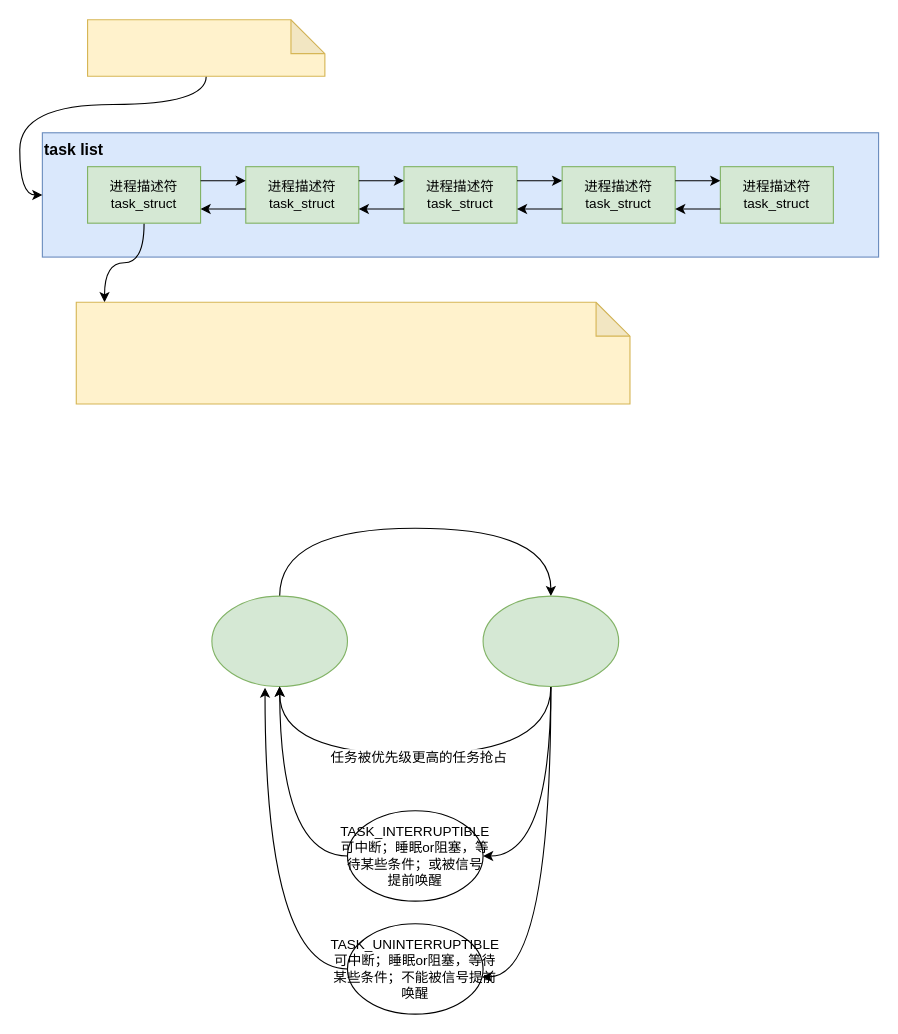
The diagram is 898 pixels wide and 1034 high, and some of its shapes have lost their labels. Here are the shapes that lost their labels. From the top down, the centre of each, then its label:
At pixel 205 47: "进程列表task list，双向链表； 链表中每一项为task_struct".
At pixel 352 352: "打开的文件； 进程地址空间 挂起的信号 进程的状态state".
At pixel 279 640: "TASK_RUNNING 可执行，即准备就绪，在运行队列中等待运行".
At pixel 550 640: "TASK_RUNNING 正在执行".
